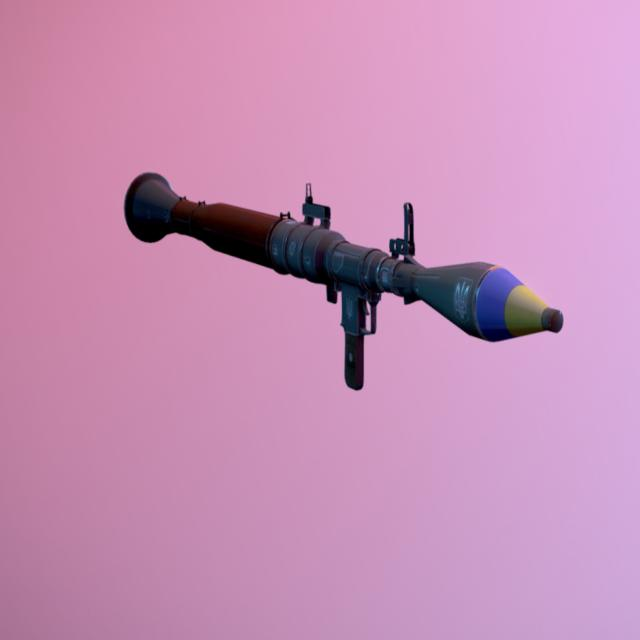bazooka: (125, 166, 575, 393)
